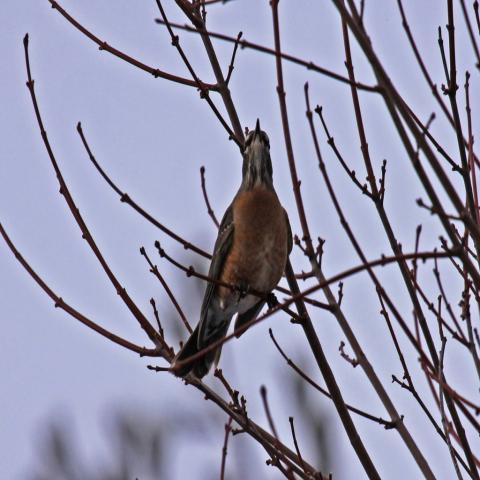bird: (168, 117, 294, 386)
